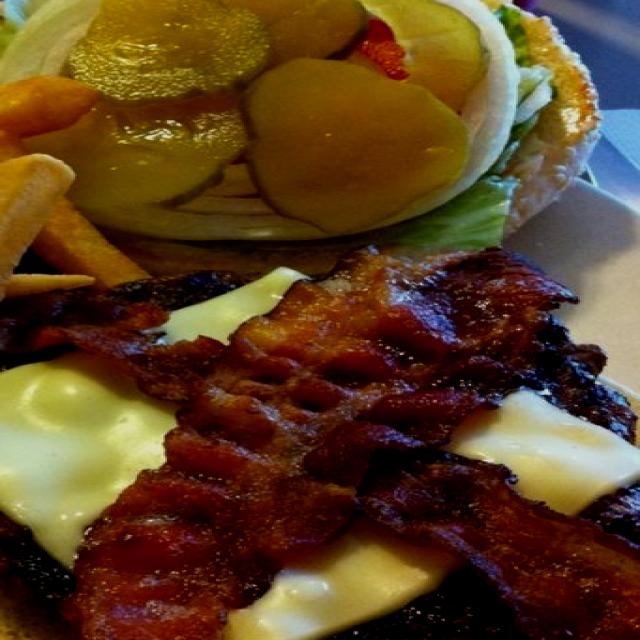burger: (21, 0, 588, 256)
